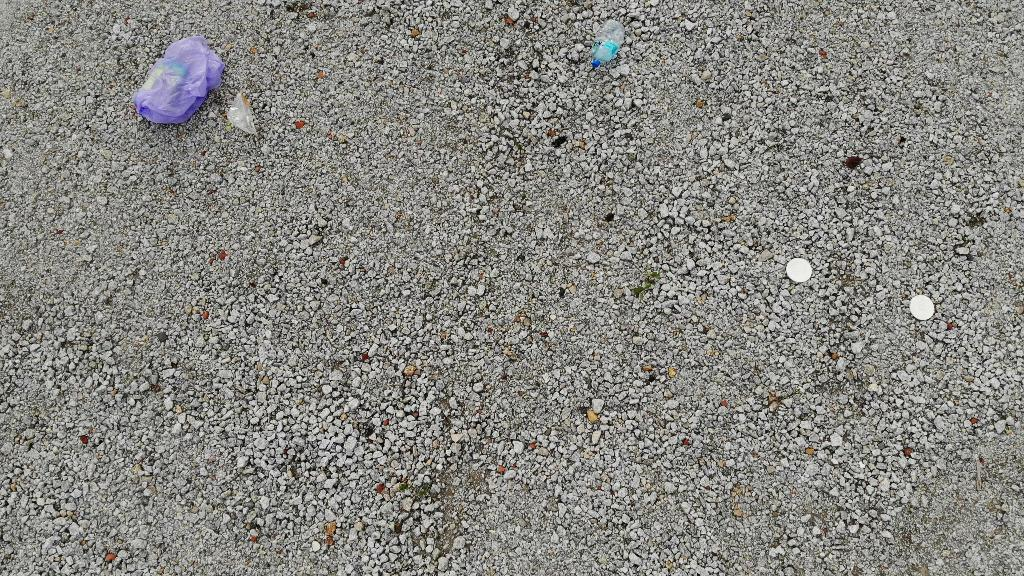garbage: (134, 35, 227, 126), (588, 16, 628, 68), (228, 91, 255, 138)
